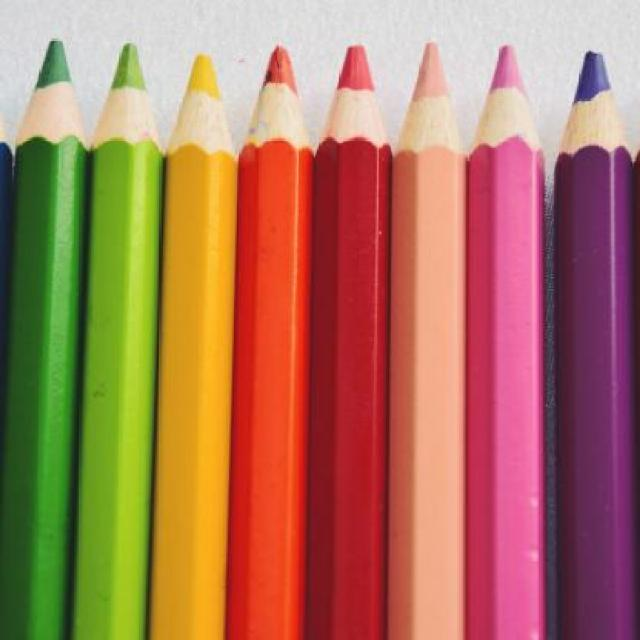Pencil: (0, 34, 93, 182), (552, 44, 640, 180), (312, 37, 390, 181), (88, 44, 166, 184), (472, 36, 546, 178), (166, 53, 242, 190), (242, 45, 312, 187), (396, 38, 466, 178)
